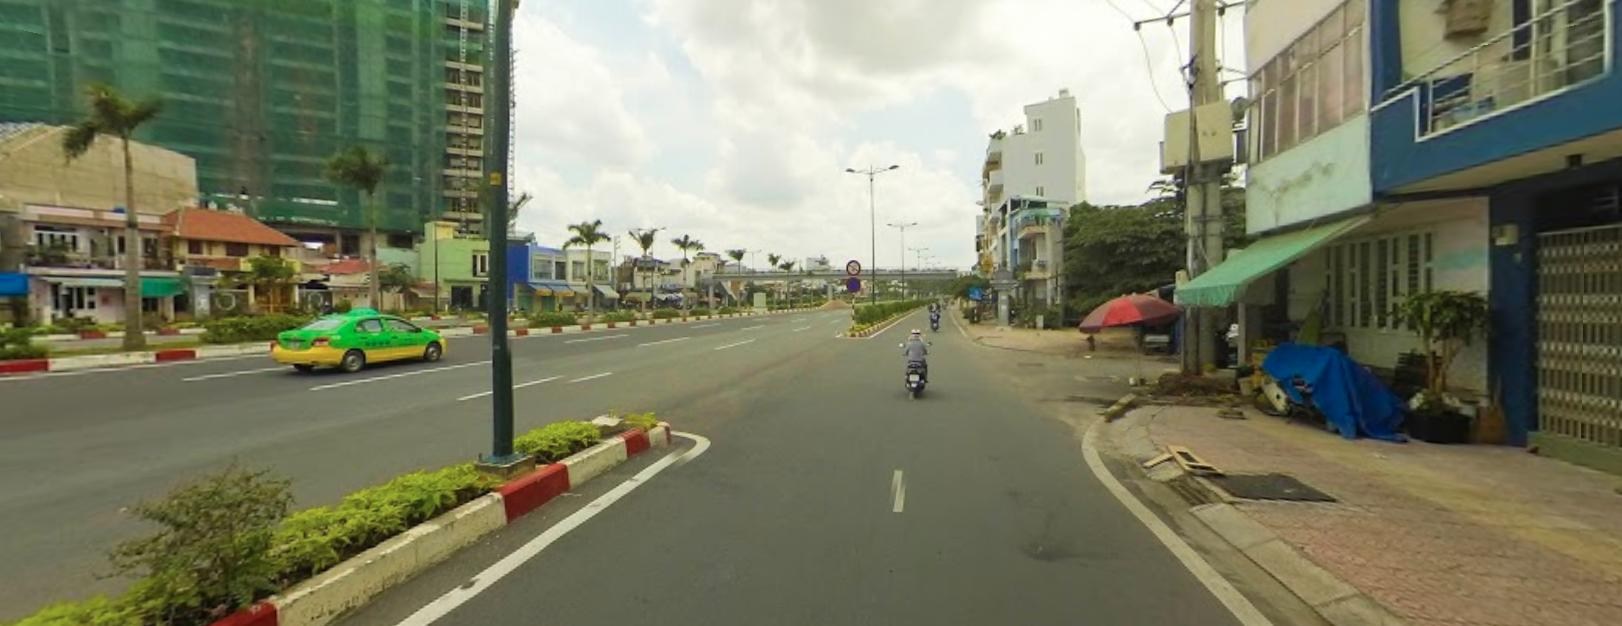Cam dung va do: (845, 275, 859, 289)
Cam re: (845, 259, 860, 273)
